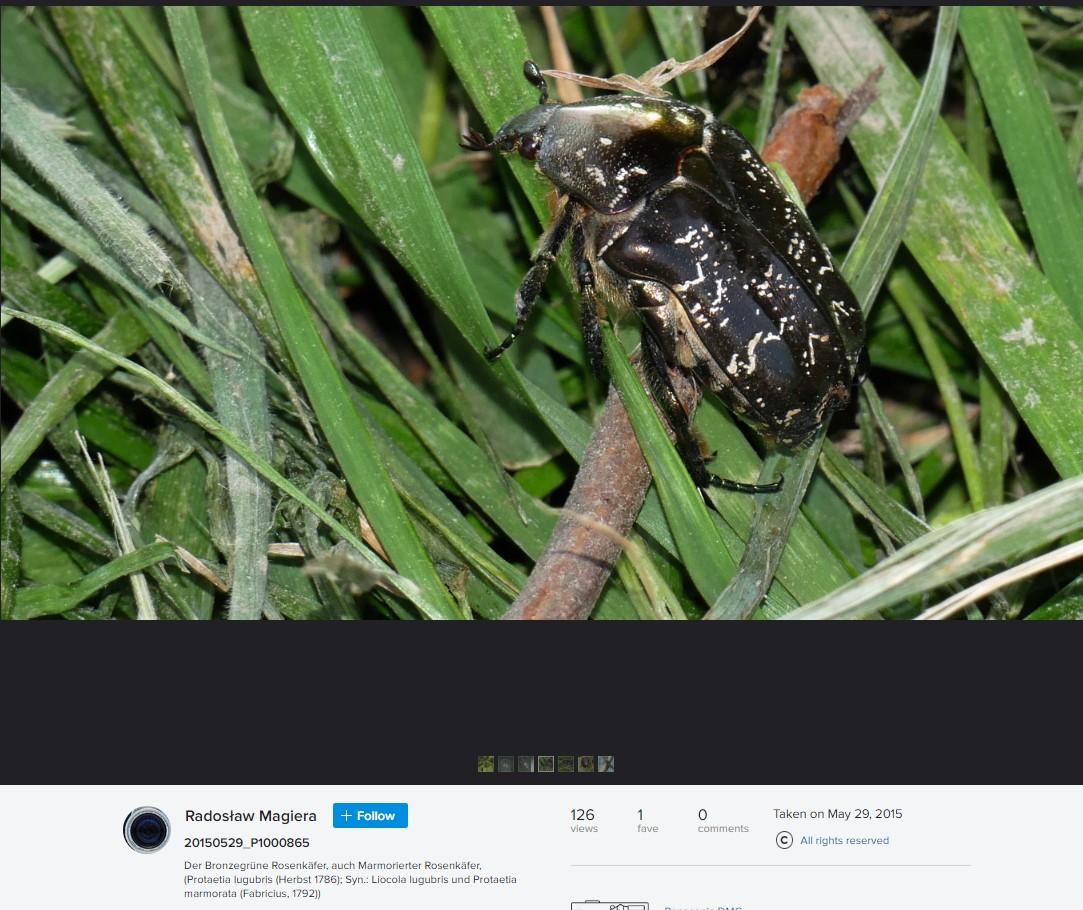Protaetia_lugubris: (449, 52, 868, 495)
